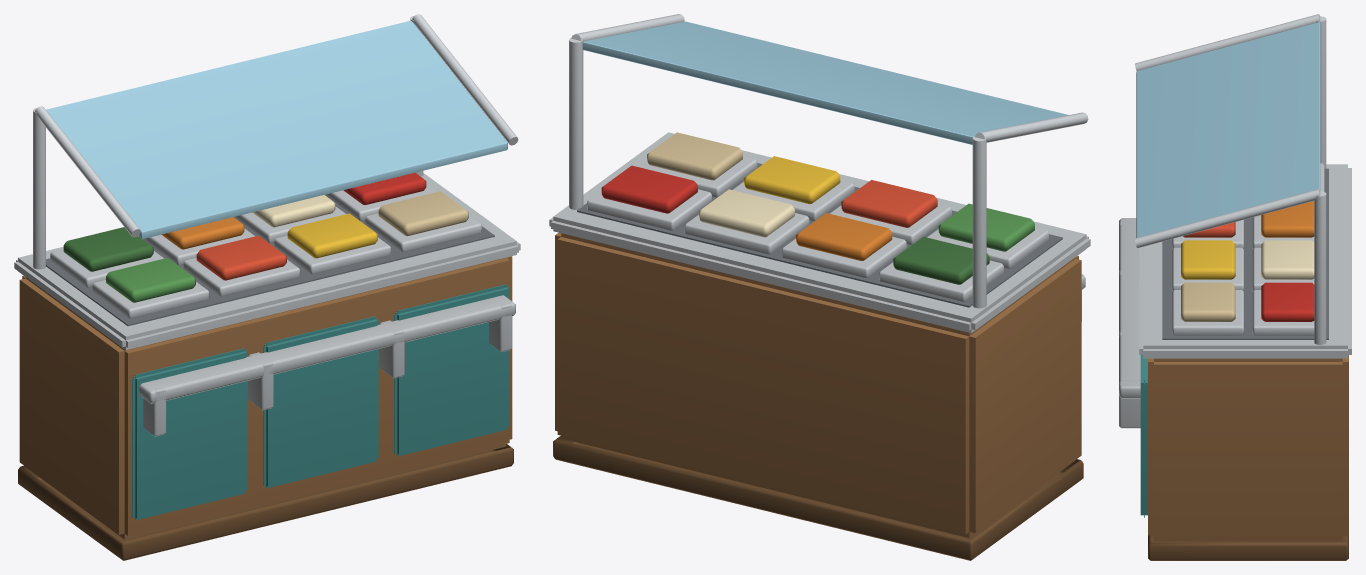
File: SM_SaladBar_15.glb
3 renders of one model, left to right at view 1: azimuth 30°, elevation 25°; view 2: azimuth 150°, elevation 25°; view 3: azimuth 270°, elevation 25°, orthographic. The views are drawn at different scales.
Parts seen in each view (by area): view 1: SM_SaladBar_15; view 2: SM_SaladBar_15; view 3: SM_SaladBar_15.
Part boxes in pixels (box(x1,y1,x2,y2)): SM_SaladBar_15: box(14, 14, 520, 560); SM_SaladBar_15: box(549, 14, 1090, 560); SM_SaladBar_15: box(1119, 14, 1351, 560).
Bounding box in the file's own units: 1.52 × 1.42 × 0.81.
Materials: 1 (1 with a texture image).
